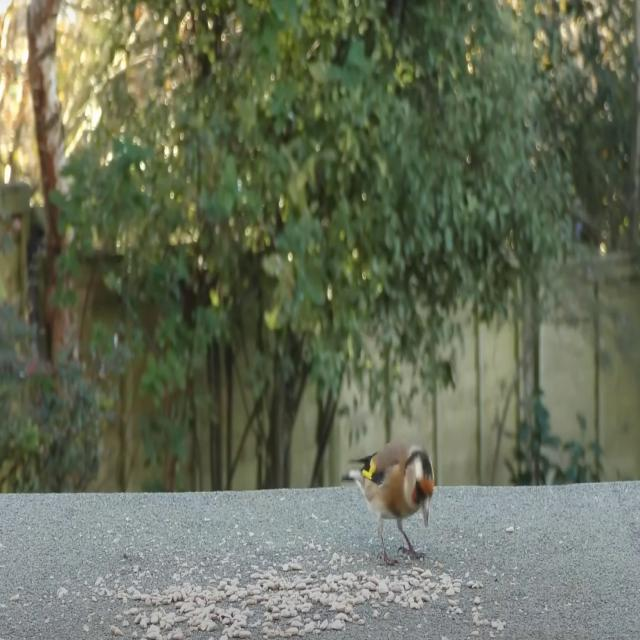beak: (421, 496, 432, 524)
bird: (344, 448, 436, 578)
